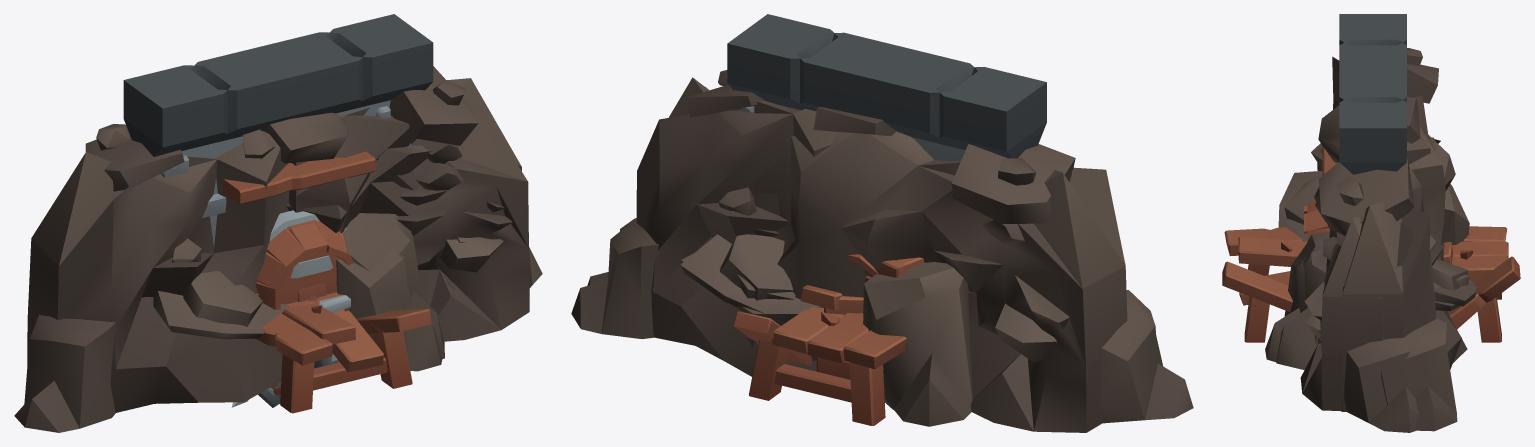
File: props.glb
The picture shows the model from 3 angles, left to right: view 1: azimuth 30°, elevation 25°; view 2: azimuth 150°, elevation 25°; view 3: azimuth 270°, elevation 25°; orthographic projection. The views are drawn at different scales.
Parts seen in each view (by area): view 1: rubble_large, wall_arched, rubble_half, wall_broken, table_long_broken, keg, shelves, wall_half, barrel_large, crates_stacked; view 2: rubble_large, rubble_half, wall_arched, table_long_broken, wall_half, wall_broken, crates_stacked; view 3: rubble_half, rubble_large, table_long_broken, wall_arched, wall_broken, wall_half, keg.
Boxes of the visible parts, x1=… form: rubble_large: x1=14, y1=102, x2=542, y2=432; wall_arched: x1=123, y1=14, x2=433, y2=177; rubble_half: x1=288, y1=66, x2=521, y2=358; wall_broken: x1=123, y1=14, x2=412, y2=246; table_long_broken: x1=256, y1=303, x2=431, y2=413; keg: x1=255, y1=210, x2=353, y2=311; shelves: x1=222, y1=151, x2=375, y2=296; wall_half: x1=264, y1=16, x2=432, y2=114; barrel_large: x1=287, y1=220, x2=333, y2=302; crates_stacked: x1=314, y1=295, x2=350, y2=368; rubble_large: x1=587, y1=87, x2=1193, y2=432; rubble_half: x1=571, y1=70, x2=836, y2=376; wall_arched: x1=728, y1=14, x2=1046, y2=161; table_long_broken: x1=734, y1=285, x2=906, y2=425; wall_half: x1=727, y1=14, x2=899, y2=116; wall_broken: x1=728, y1=14, x2=1046, y2=158; crates_stacked: x1=816, y1=257, x2=923, y2=379; rubble_half: x1=1276, y1=138, x2=1475, y2=431; rubble_large: x1=1265, y1=48, x2=1477, y2=432; table_long_broken: x1=1222, y1=226, x2=1520, y2=342; wall_arched: x1=1339, y1=14, x2=1406, y2=174; wall_broken: x1=1339, y1=14, x2=1406, y2=174; wall_half: x1=1339, y1=71, x2=1406, y2=173; keg: x1=1304, y1=200, x2=1330, y2=241.
Bounding box in the file's own units: 8.13 × 4.82 × 4.4.
